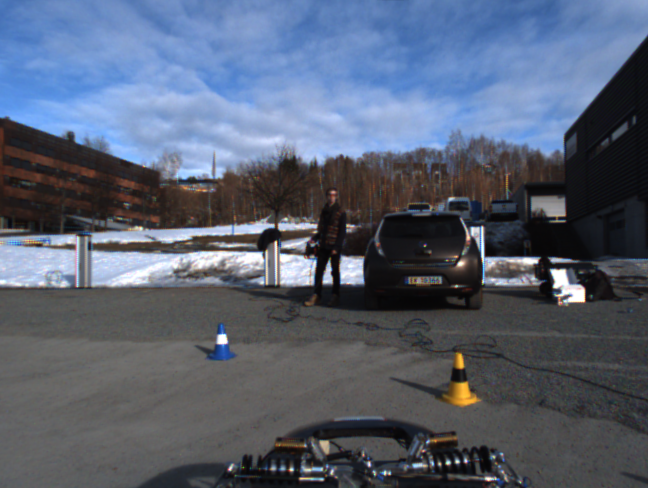cone-small-blue: (206, 323, 237, 361)
cone-small-yellow: (441, 352, 480, 406)
